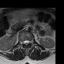CCS_normal: (25, 38, 27, 47)
LFS_normal: (29, 38, 31, 45)
LLS_normal: (27, 38, 29, 45)
RFS_normal: (21, 38, 23, 45)
RLS_normal: (23, 38, 25, 45)
